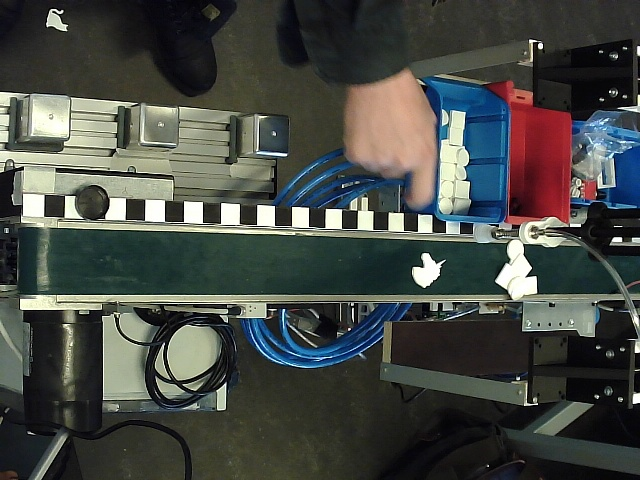unicorn: (412, 252, 446, 289)
